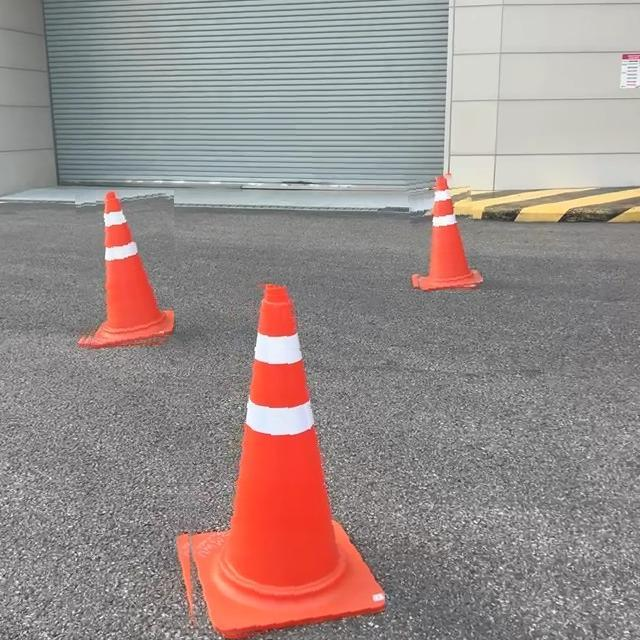fallen_object: (135, 250, 382, 637), (66, 162, 204, 365), (396, 172, 493, 292)
